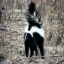skunk: (24, 2, 44, 56)
